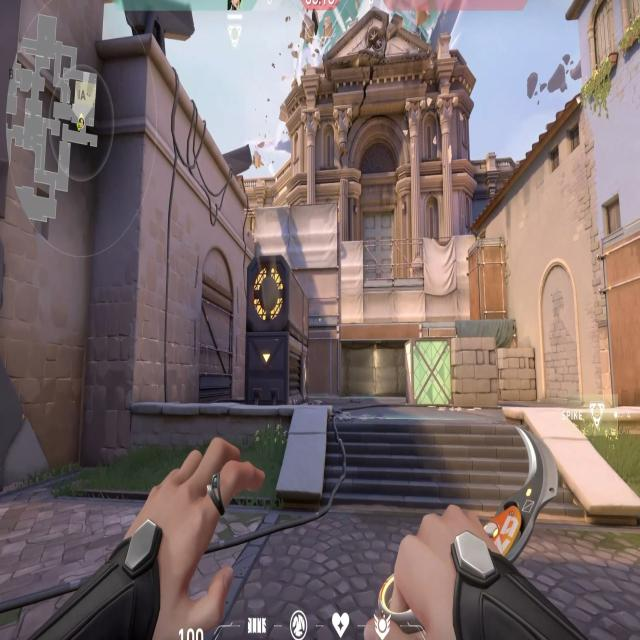A_Heaven_Box: (466, 232, 516, 327)
A_Heaven_Wall: (246, 184, 346, 326)
A_Hell: (336, 318, 427, 403)
A_Site_Box: (400, 326, 502, 417)
